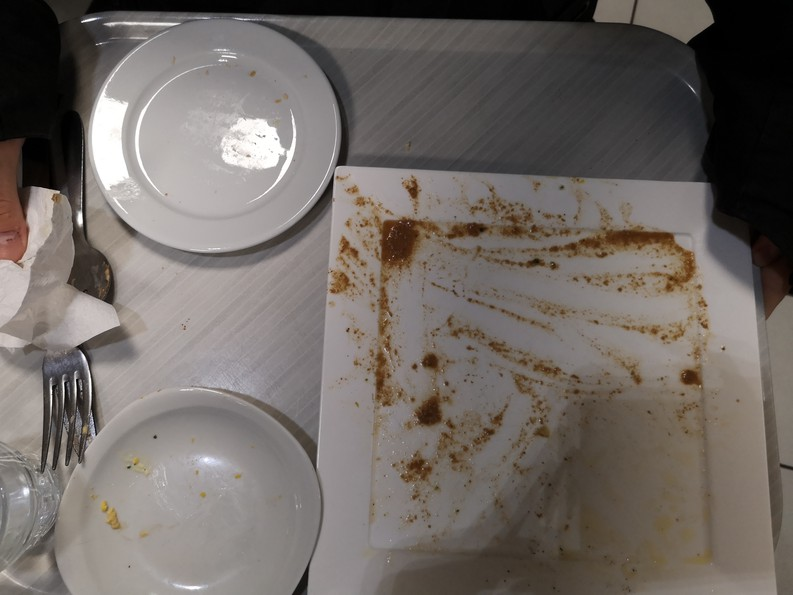cup: (1, 435, 68, 592)
cutlery: (36, 340, 102, 488), (71, 103, 113, 307)
trash: (1, 190, 128, 357)
